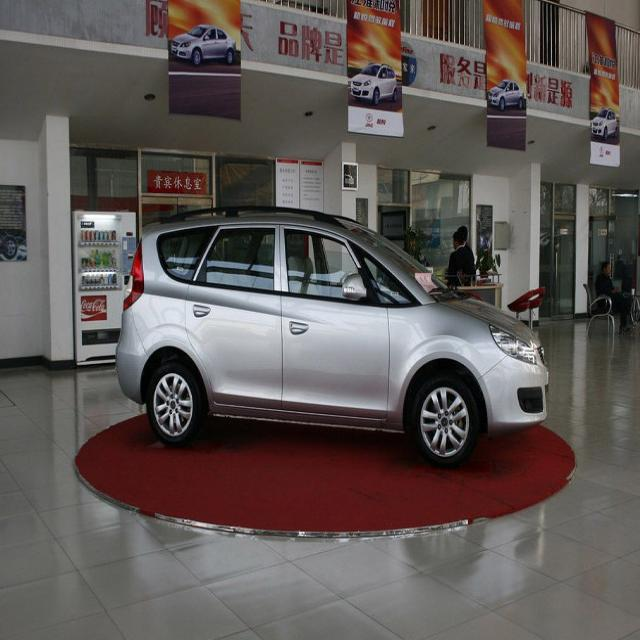back_right_side_light: (123, 234, 145, 311)
door: (184, 224, 287, 420)
front_left_side_mirror: (342, 273, 368, 304)
front_right_side_door: (278, 221, 390, 423)
front_right_side_light: (489, 322, 537, 366)
wheel: (415, 371, 475, 468), (146, 359, 200, 448)
